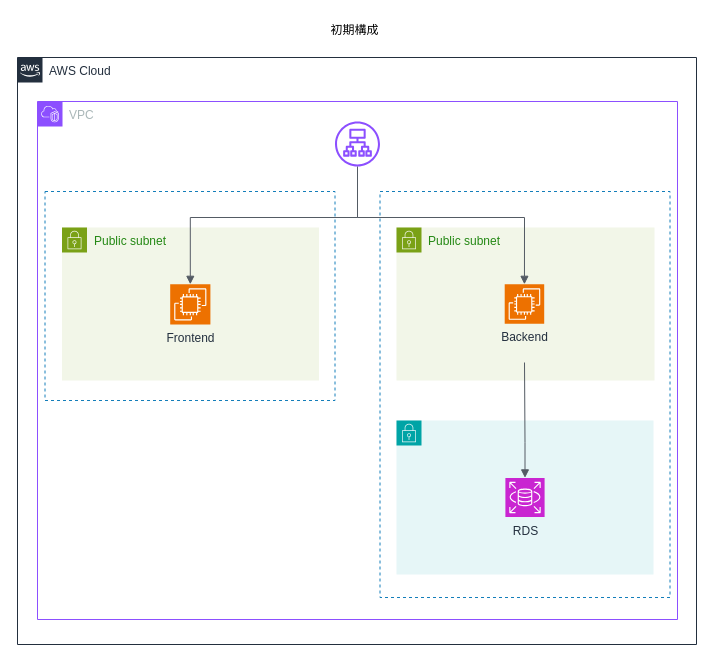
Image size: 714x662. Some labels were removed from this diagram. Each missing label, with the box of its shape:
ap-northeast-1a: (44, 190, 335, 400)
ap-northeast-1c: (379, 190, 670, 598)
Private subnet: (396, 420, 654, 574)
